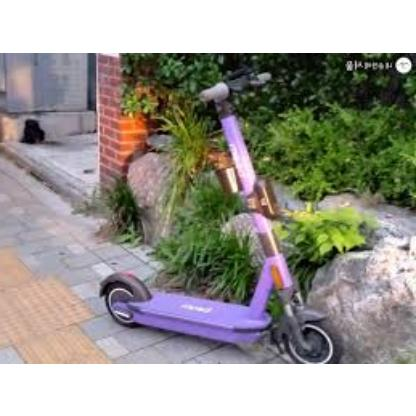bike: (100, 65, 337, 365), (100, 209, 335, 365)
